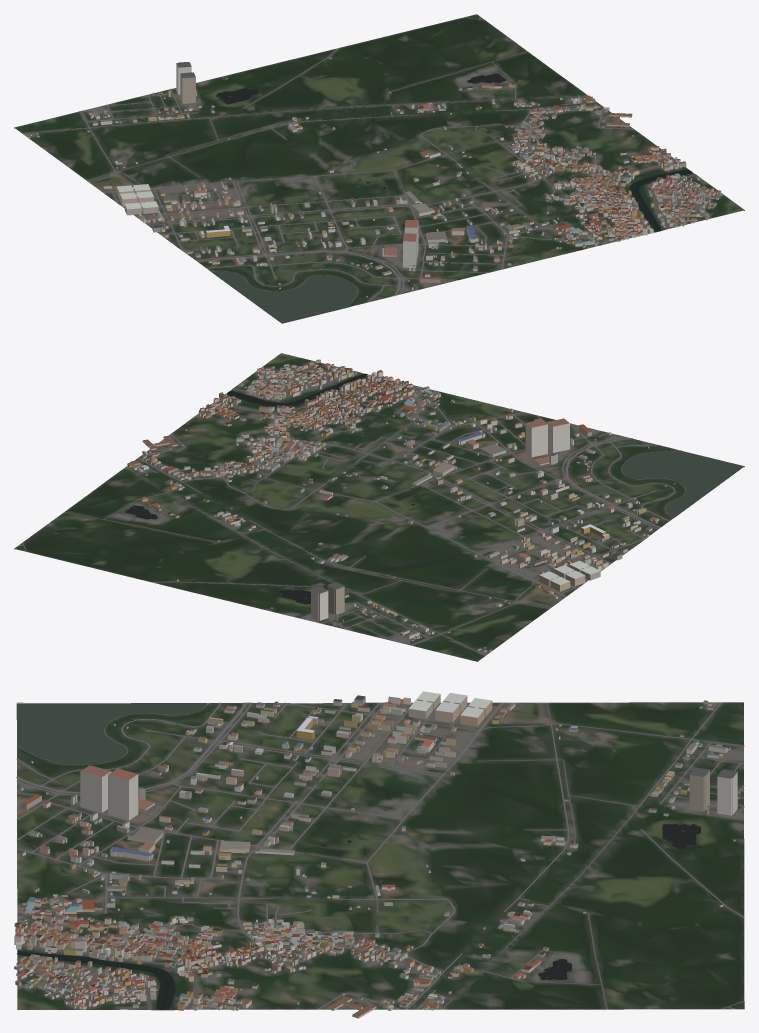
The picture shows the model from 3 angles, top to bottom: view 1: azimuth 30°, elevation 25°; view 2: azimuth 150°, elevation 25°; view 3: azimuth 270°, elevation 25°; orthographic projection. The views are drawn at different scales.
Visible parts, largest first — view 1: ground, buildings, roads, water; view 2: ground, buildings, roads, water; view 3: ground, buildings, roads, water.
Part boxes in pixels (left/top/right/bottom): ground: left=14, top=14, right=744, bottom=323; buildings: left=27, top=57, right=722, bottom=297; roads: left=22, top=16, right=719, bottom=323; water: left=212, top=73, right=692, bottom=322; ground: left=14, top=353, right=744, bottom=661; buildings: left=127, top=359, right=675, bottom=652; roads: left=17, top=361, right=744, bottom=655; water: left=125, top=373, right=743, bottom=604; ground: left=16, top=702, right=744, bottom=1010; buildings: left=14, top=691, right=740, bottom=1018; roads: left=16, top=702, right=744, bottom=1009; water: left=17, top=703, right=700, bottom=1009.
Bounding box in the file's own units: 1457 × 90.07 × 1409.
